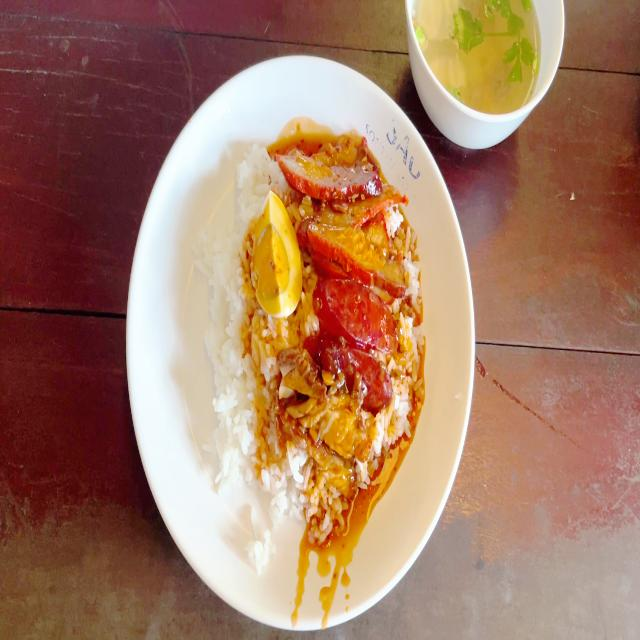boiled_egg: (257, 194, 299, 319)
chainese_sausage: (311, 284, 397, 400)
crispy_pork: (276, 375, 366, 488)
red_pork: (291, 146, 410, 281)
red_pork_and_crispy_pork: (202, 150, 408, 538)
rice: (216, 325, 280, 552), (206, 192, 259, 412), (236, 145, 288, 209)
